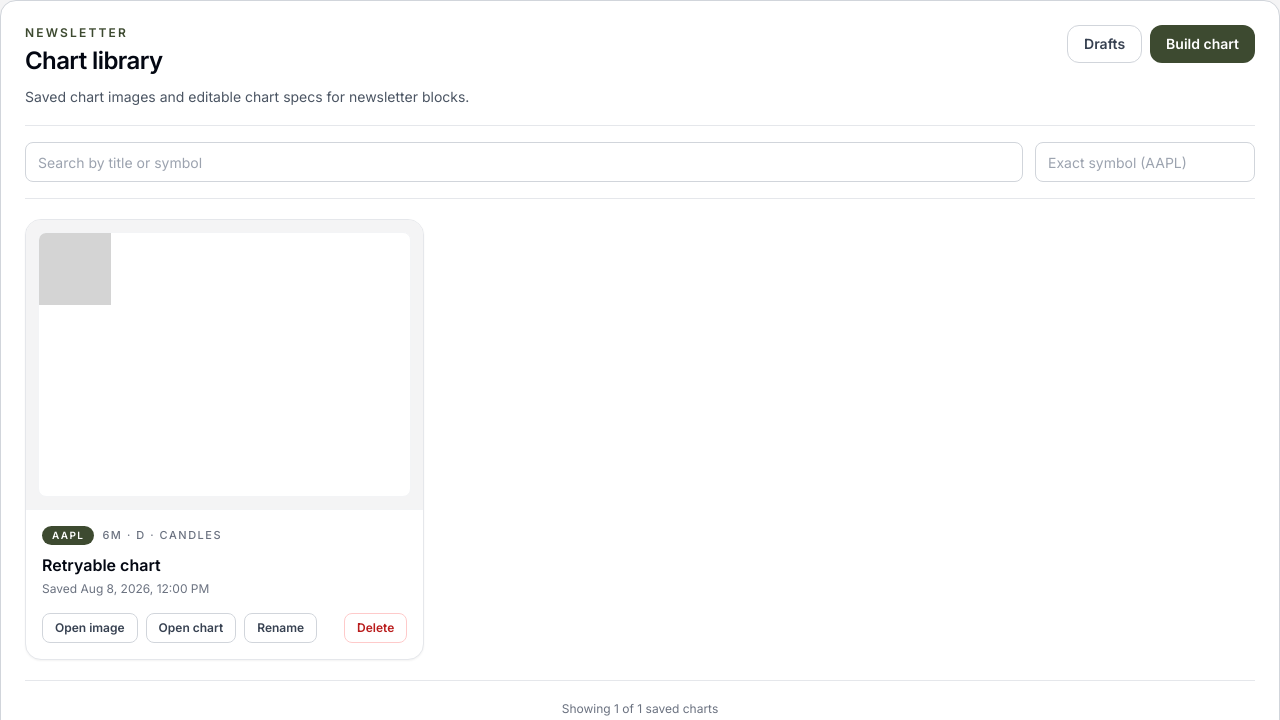
Test: newsletter chart library bounded paging › keeps delete failures announced inside the active dialog
Step 1. Click the button "Delete" → x=376, y=628, box x1=344 y1=613 x2=407 y2=643
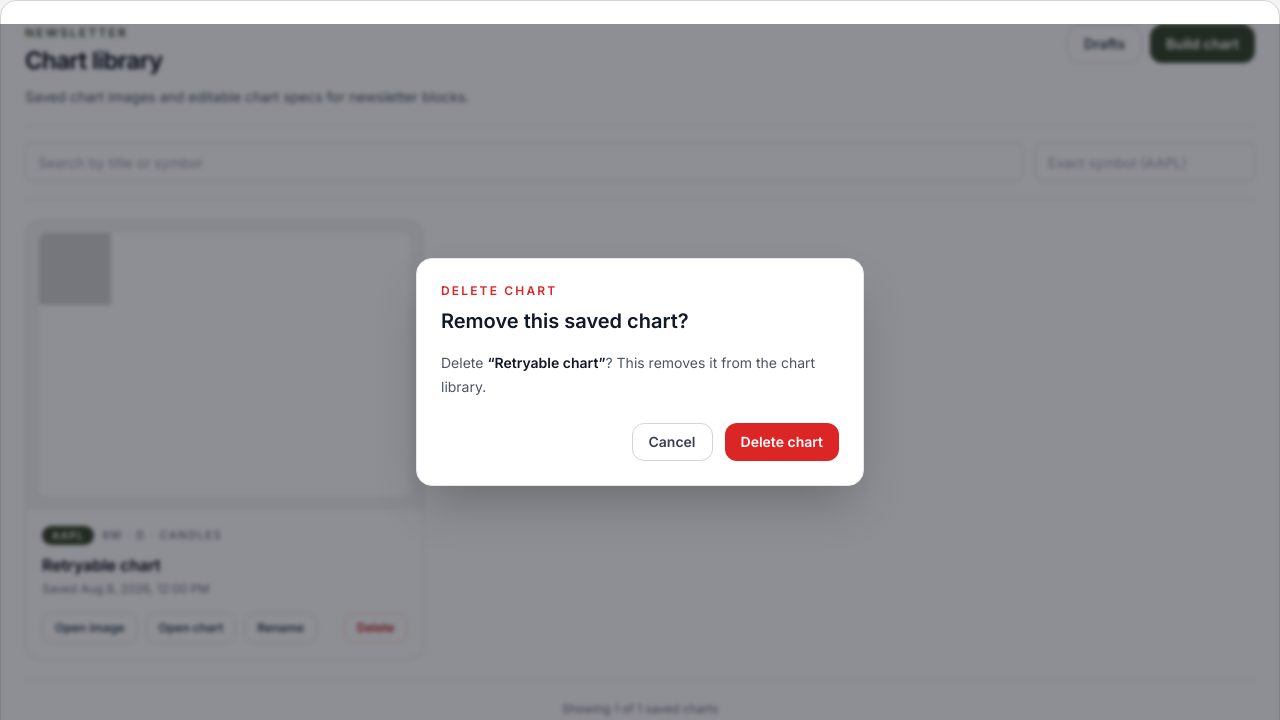
Step 2. Click the button "Delete chart" → x=782, y=442, box x1=724 y1=423 x2=839 y2=461
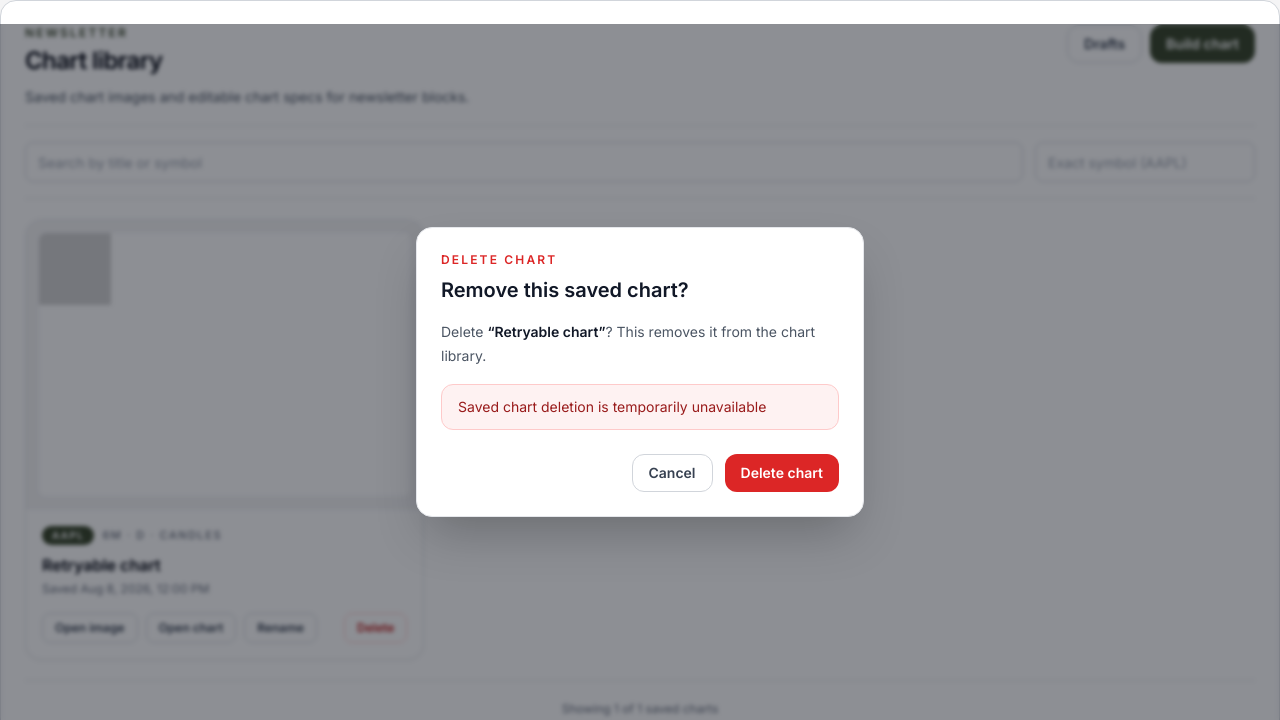
Expected: the dialog "Remove this saved chart?" is shown, x1=416 y1=227 x2=864 y2=517
Expected: the button "Cancel" is enabled, x1=632 y1=454 x2=712 y2=492
Expected: the message reads "Saved chart deletion is temporarily unavailable", x1=458 y1=398 x2=766 y2=415
